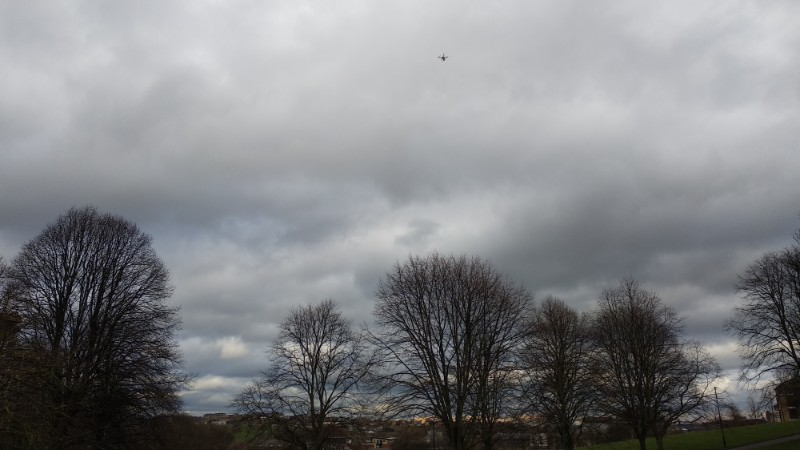drone: (437, 53, 449, 61)
